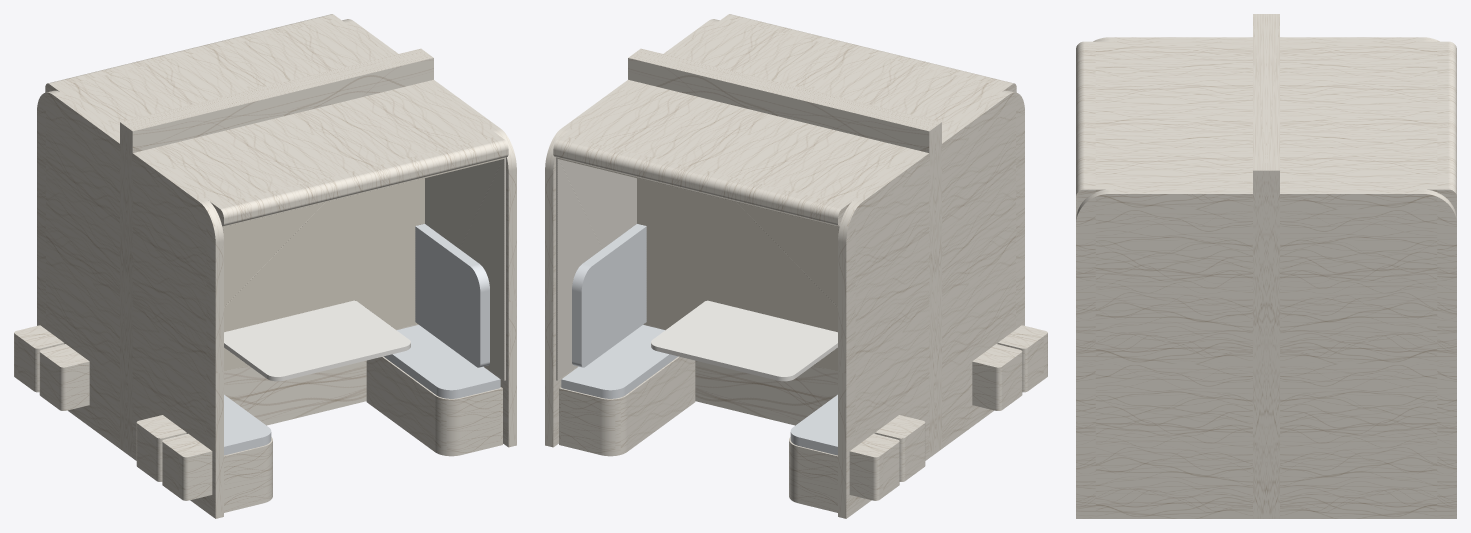
The model's file is Siddeniche_26044_dobbelt_2170.glb.
The picture shows the model from 3 angles, left to right: view 1: azimuth 30°, elevation 25°; view 2: azimuth 150°, elevation 25°; view 3: azimuth 270°, elevation 25°; orthographic projection. The views are drawn at different scales.
Visible parts, largest first — view 1: Gavl venstre (×2), Tag (×2), Beklædning bag, Bagvæg (×2), Bordplade, Beklædning højre, Bænk højre, Rygpude højre, Kasse 1 (×2), Kasse 2 (×2), Siddehynde højre, Gavl højre (+2 smaller); view 2: Gavl venstre (×2), Tag (×2), Beklædning bag, Bagvæg (×2), Bordplade, Beklædning højre, Bænk højre, Rygpude højre, Kasse 1 (×2), Kasse 2 (×2), Siddehynde højre, Gavl højre (+2 smaller); view 3: Gavl højre (×2), Tag (×2), Bagvæg (×2), Gavl venstre (×2).
Part boxes in pixels (x1,y1,x2,y2): Gavl venstre (×2): (37, 90, 223, 518); Tag (×2): (45, 14, 508, 226); Beklædning bag: (223, 178, 424, 371); Bagvæg (×2): (120, 48, 433, 457); Bordplade: (224, 300, 410, 381); Beklædning højre: (425, 158, 505, 380); Bænk højre: (366, 356, 502, 456); Rygpude højre: (415, 224, 489, 367); Kasse 1 (×2): (39, 344, 186, 481); Kasse 2 (×2): (14, 325, 212, 500); Siddehynde højre: (383, 325, 500, 398); Gavl højre: (426, 79, 516, 447); Gavl venstre (×2): (838, 90, 1024, 518); Tag (×2): (553, 14, 1016, 226); Beklædning bag: (637, 178, 838, 371); Bagvæg (×2): (628, 48, 941, 457); Bordplade: (651, 300, 837, 381); Beklædning højre: (556, 157, 636, 380); Bænk højre: (559, 356, 695, 456); Rygpude højre: (572, 224, 646, 367); Kasse 1 (×2): (875, 344, 1022, 481); Kasse 2 (×2): (849, 325, 1047, 500); Siddehynde højre: (561, 325, 678, 398); Gavl højre: (545, 79, 635, 447); Gavl højre (×2): (1076, 189, 1456, 518); Tag (×2): (1076, 41, 1456, 206); Bagvæg (×2): (1253, 14, 1279, 518); Gavl venstre (×2): (1076, 37, 1456, 217).
Bounding box in the file's own units: 2.37 × 2.25 × 2.23.
Materials: 7 (4 with a texture image).
